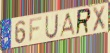6: (14, 20, 27, 46)
A: (58, 11, 77, 38)
F: (28, 16, 44, 45)
R: (75, 7, 92, 37)
U: (45, 13, 60, 40)
X: (92, 4, 107, 33)
